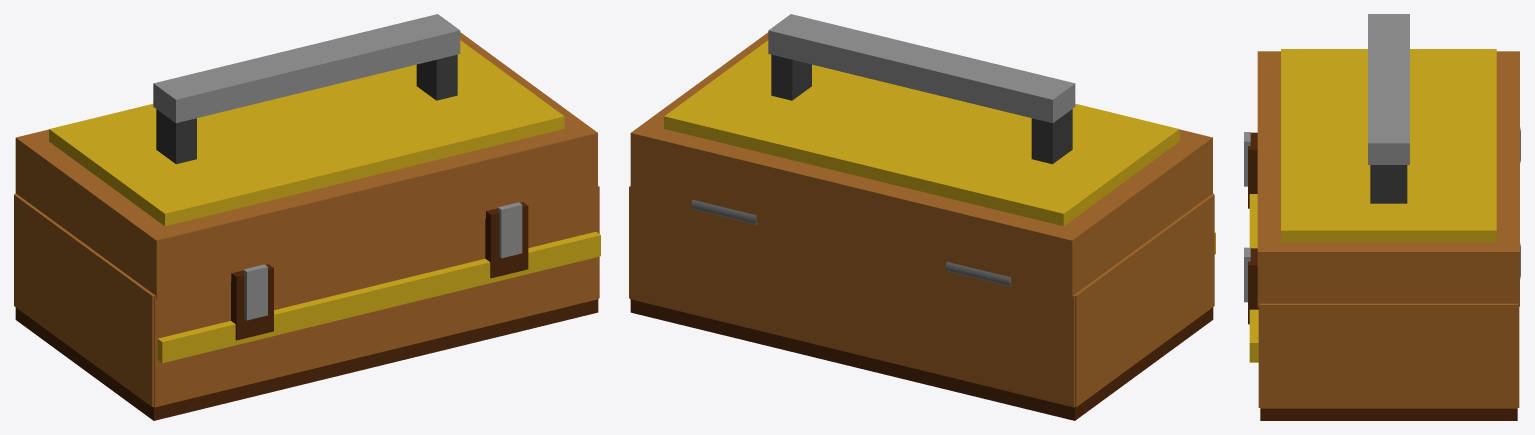
Rendered from CMU3DUtilityRMCToolboxElectricalCloud.glb.
3 renders of one model, left to right at view 1: azimuth 30°, elevation 25°; view 2: azimuth 150°, elevation 25°; view 3: azimuth 270°, elevation 25°, orthographic. The views are drawn at different scales.
Visible parts, largest first — view 1: independent closed lid, raised lid field, structural end wall -1, structural side wall -1, open grip silver crossbar, source colored front band, structural bottom pan, front latch socket 0.17, front latch socket -0.17, carry handle leg -0.174, carry handle leg 0.174, front metal latch plate -0.17 (+1 smaller); view 2: structural end wall 1, independent closed lid, raised lid field, structural side wall -1, open grip silver crossbar, structural bottom pan, carry handle leg -0.174, carry handle leg 0.174, back hinge 0.17, back hinge -0.17; view 3: raised lid field, structural side wall 1, independent closed lid, open grip silver crossbar, structural bottom pan, carry handle leg 0.174, source colored front band, front latch socket 0.17, front latch socket -0.17, structural end wall -1, structural end wall 1, front metal latch plate 0.17.
Part boxes in pixels (<box>): independent closed lid: <box>15,32,597,299</box>; raised lid field: <box>49,40,564,226</box>; structural end wall -1: <box>141,187,598,407</box>; structural side wall -1: <box>14,194,154,406</box>; open grip silver crossbar: <box>153,14,460,123</box>; source colored front band: <box>157,232,600,363</box>; structural bottom pan: <box>15,299,598,420</box>; front latch socket 0.17: <box>485,202,528,278</box>; front latch socket -0.17: <box>231,264,273,340</box>; carry handle leg -0.174: <box>156,109,196,164</box>; carry handle leg 0.174: <box>416,54,457,100</box>; front metal latch plate -0.17: <box>243,264,267,320</box>; structural end wall 1: <box>629,187,1087,407</box>; independent closed lid: <box>630,32,1212,299</box>; raised lid field: <box>664,40,1179,226</box>; structural side wall -1: <box>1074,194,1214,407</box>; open grip silver crossbar: <box>768,14,1075,123</box>; structural bottom pan: <box>630,299,1213,420</box>; carry handle leg -0.174: <box>1031,109,1072,164</box>; carry handle leg 0.174: <box>771,54,811,100</box>; back hinge 0.17: <box>691,199,756,224</box>; back hinge -0.17: <box>946,261,1011,286</box>; raised lid field: <box>1281,49,1496,242</box>; structural side wall 1: <box>1260,303,1517,408</box>; independent closed lid: <box>1257,51,1519,306</box>; open grip silver crossbar: <box>1368,14,1409,164</box>; structural bottom pan: <box>1260,408,1517,420</box>; carry handle leg 0.174: <box>1370,165,1407,203</box>; source colored front band: <box>1249,194,1258,362</box>; front latch socket 0.17: <box>1248,248,1258,324</box>; front latch socket -0.17: <box>1248,132,1257,208</box>; structural end wall -1: <box>1258,303,1283,407</box>; structural end wall 1: <box>1494,303,1519,407</box>; front metal latch plate 0.17: <box>1244,247,1250,302</box>.
Size of what is drawn, in the model's own units: 0.5978 by 0.331 by 0.344.
